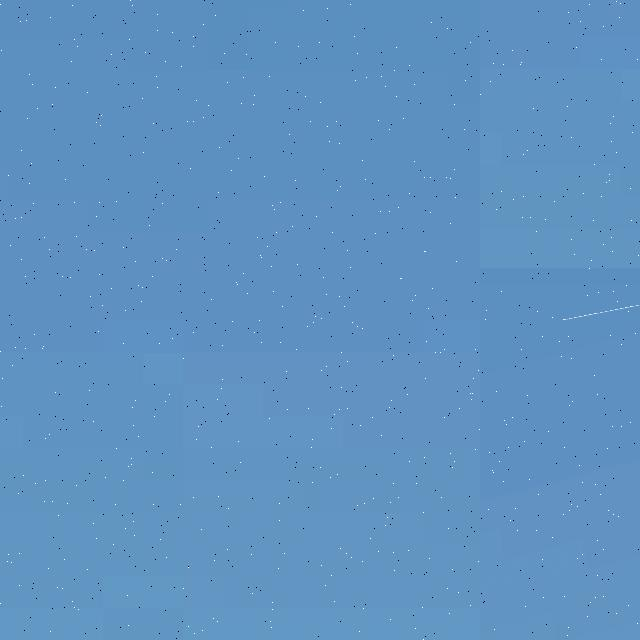drone: (480, 320, 640, 640)
